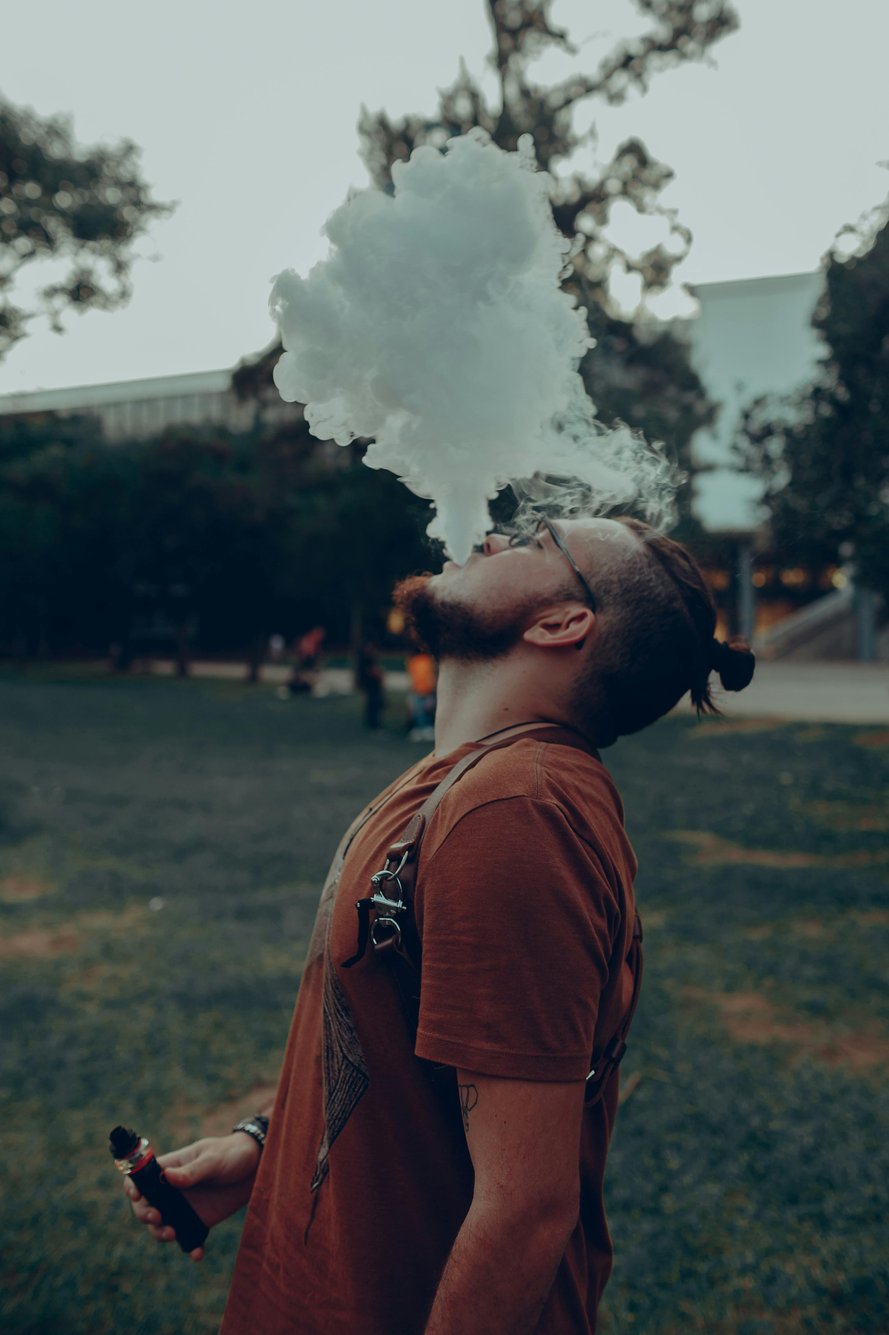smoker: (57, 147, 827, 1335)
